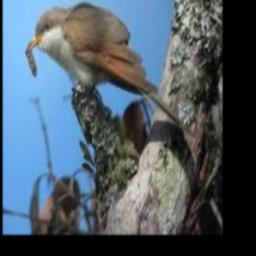Cuckoo: (28, 2, 184, 130)
